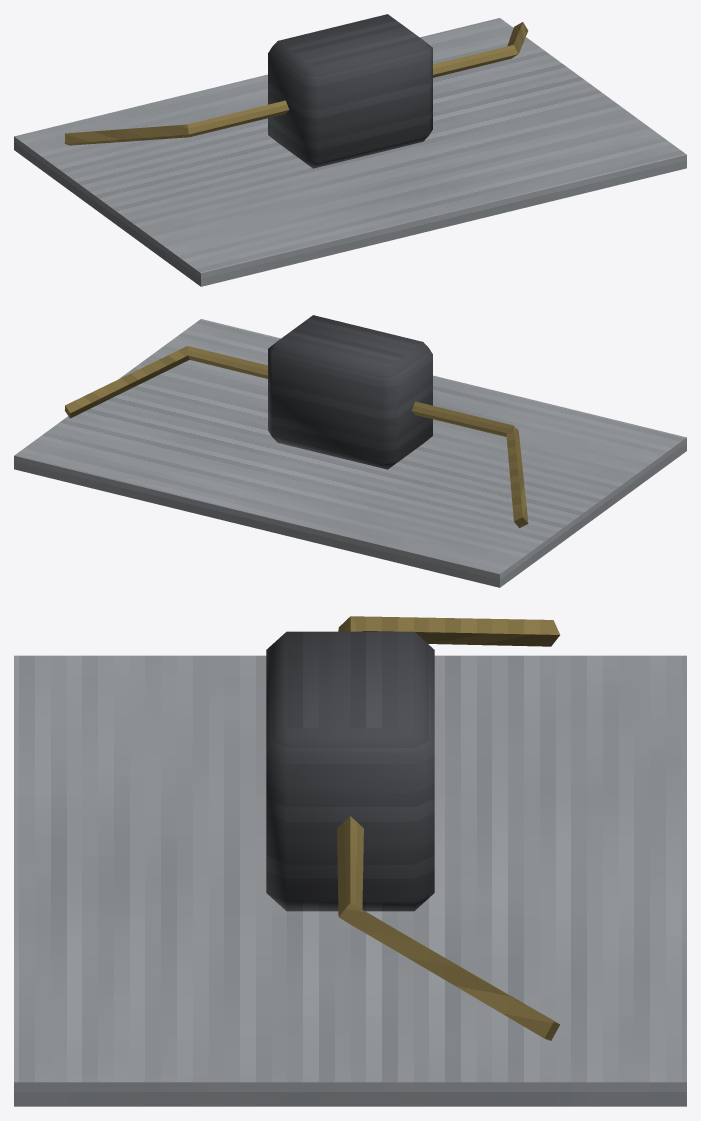
File: balanco_freio_fabrica.glb
3 views of the same model, one above another, from view 1: azimuth 30°, elevation 25°; view 2: azimuth 150°, elevation 25°; view 3: azimuth 270°, elevation 25° (orthographic). The views are drawn at different scales.
Visible parts, largest first — view 1: balanco_freio_fabrica; view 2: balanco_freio_fabrica; view 3: balanco_freio_fabrica.
Part boxes in pixels (x1,y1,x2,y2): balanco_freio_fabrica: (14,14,686,286); balanco_freio_fabrica: (14,315,686,587); balanco_freio_fabrica: (14,616,686,1106).
Size of the model in its own units: 0.3 by 0.07 by 0.2.
2 materials, 2 textured.
